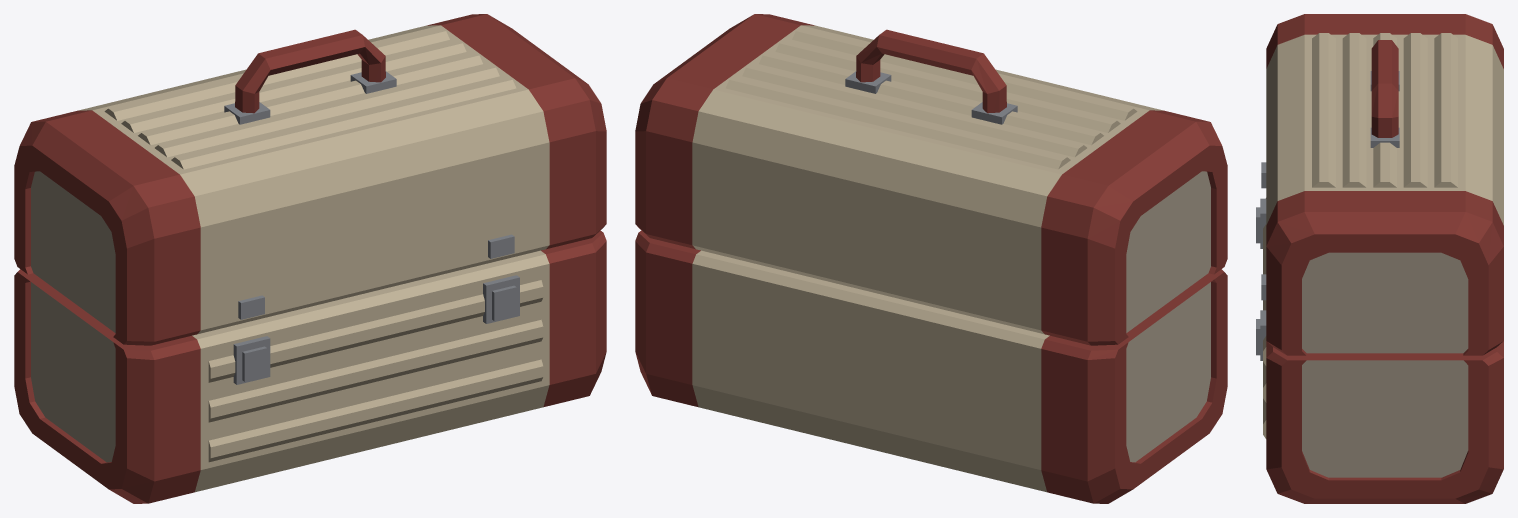
The model's file is suitcase.glb.
3 renders of one model, left to right at view 1: azimuth 30°, elevation 25°; view 2: azimuth 150°, elevation 25°; view 3: azimuth 270°, elevation 25°, orthographic. The views are drawn at different scales.
Parts seen in each view (by area): view 1: lid-mesh, case-body; view 2: lid-mesh, case-body; view 3: lid-mesh, case-body.
Part boxes in pixels (<box>): lid-mesh: <box>14,14,606,345</box>; case-body: <box>14,230,606,503</box>; lid-mesh: <box>635,14,1227,345</box>; case-body: <box>635,230,1227,503</box>; lid-mesh: <box>1261,14,1503,355</box>; case-body: <box>1256,198,1503,503</box>.
Size of the model in its own units: 0.6 by 0.4467 by 0.292.
